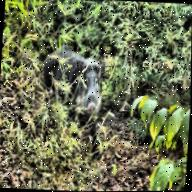boar: (31, 35, 123, 154)
